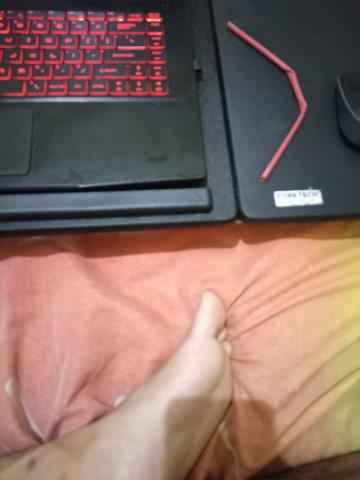sedotan: (226, 22, 308, 181)
